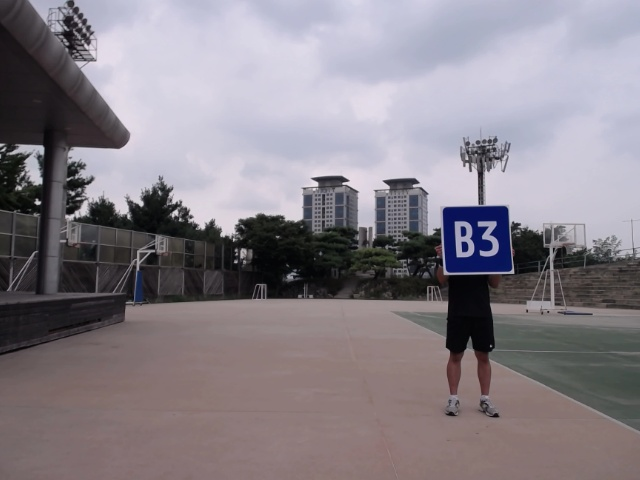delivery_b3: (440, 202, 516, 275)
